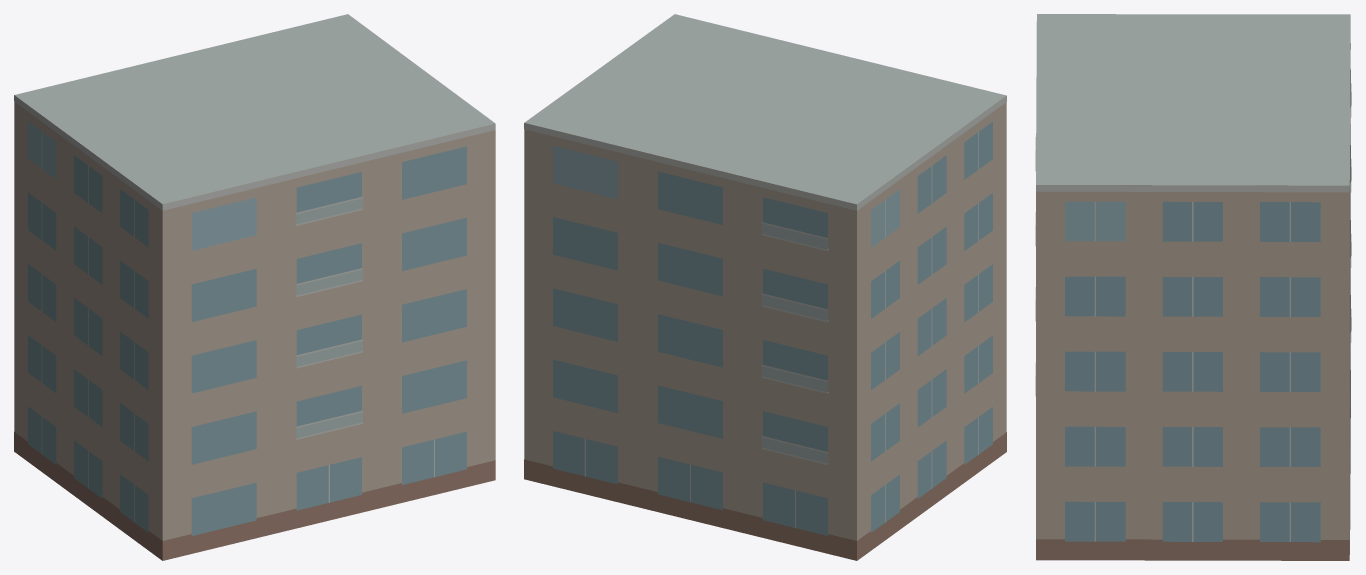
File: survey-upis-32630718.glb
3 views of the same model, side by side, from view 1: azimuth 30°, elevation 25°; view 2: azimuth 150°, elevation 25°; view 3: azimuth 270°, elevation 25° (orthographic). The views are drawn at different scales.
Visible parts, largest first — view 1: survey-upis-32630718.tmp; view 2: survey-upis-32630718.tmp; view 3: survey-upis-32630718.tmp.
Part boxes in pixels (left/top/right/bottom): survey-upis-32630718.tmp: left=14, top=14, right=495, bottom=560; survey-upis-32630718.tmp: left=524, top=14, right=1006, bottom=560; survey-upis-32630718.tmp: left=1035, top=14, right=1351, bottom=560.
Size of the model in its own units: 13.3 by 13.55 by 10.37.
